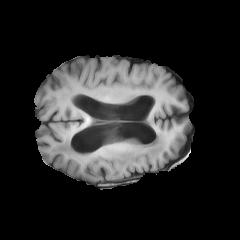glioma: (50, 135, 165, 179)
